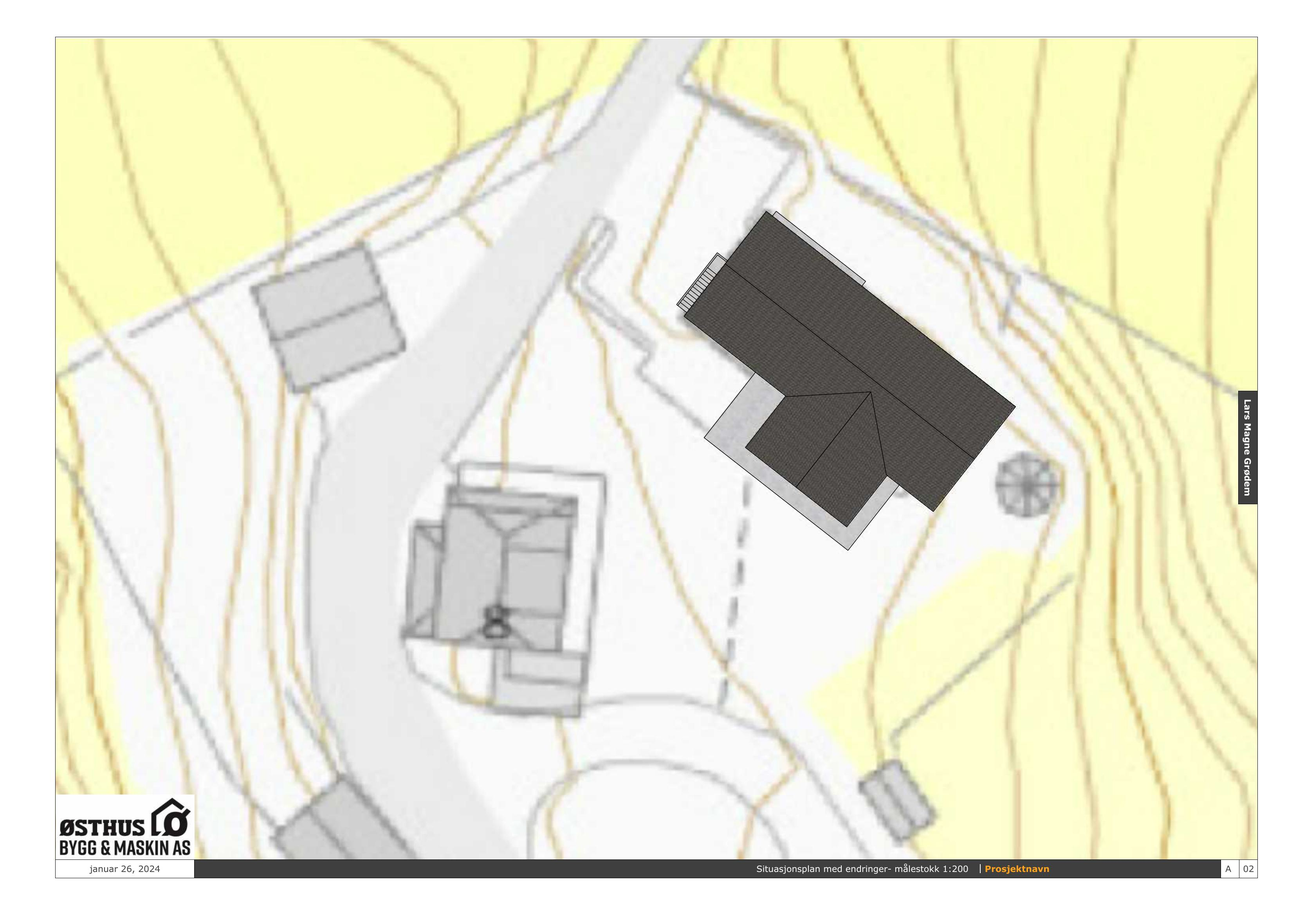fasade: (59, 40, 1254, 857)
